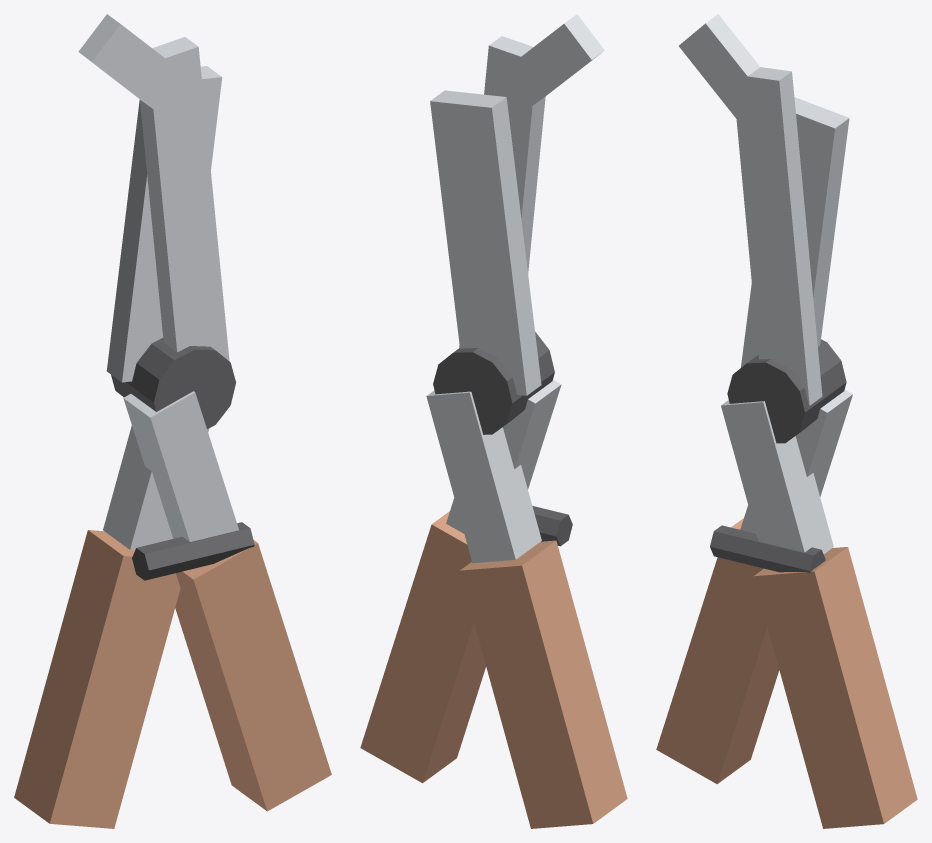
The model's file is secateurs.glb.
The picture shows the model from 3 angles, left to right: view 1: azimuth 30°, elevation 25°; view 2: azimuth 150°, elevation 25°; view 3: azimuth 330°, elevation 25°; orthographic projection. The views are drawn at different scales.
Visible parts, largest first — view 1: secateurs-terracotta, secateurs-steel, secateurs-dark; view 2: secateurs-terracotta, secateurs-steel, secateurs-dark; view 3: secateurs-terracotta, secateurs-steel, secateurs-dark.
Boxes of the visible parts, left/top/right/bottom form: secateurs-terracotta: left=14, top=530, right=331, bottom=828; secateurs-steel: left=78, top=14, right=238, bottom=550; secateurs-dark: left=111, top=338, right=254, bottom=580; secateurs-terracotta: left=360, top=511, right=627, bottom=828; secateurs-steel: left=426, top=14, right=604, bottom=563; secateurs-dark: left=433, top=331, right=572, bottom=546; secateurs-terracotta: left=656, top=518, right=917, bottom=828; secateurs-steel: left=679, top=14, right=852, bottom=553; secateurs-dark: left=710, top=339, right=846, bottom=572.
Bounding box in the file's own units: 0.0891 × 0.2642 × 0.0335.
